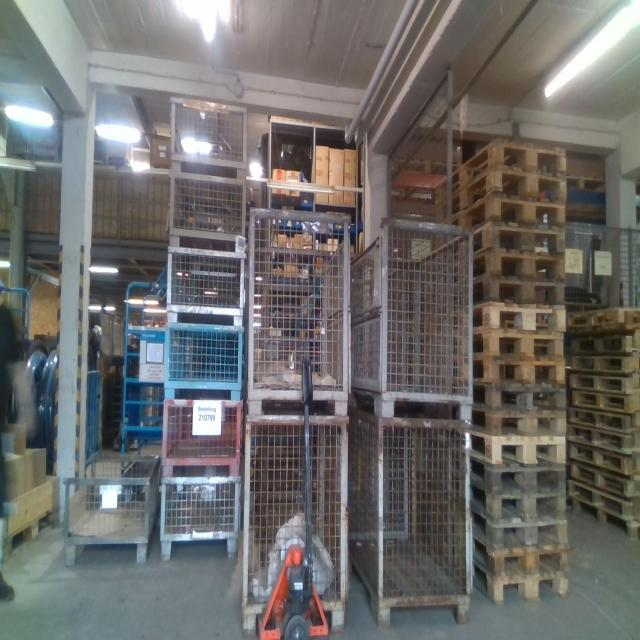pallet: (433, 135, 565, 175), (425, 177, 568, 209), (435, 202, 571, 232), (426, 231, 567, 258), (0, 504, 60, 566), (432, 258, 567, 285), (441, 286, 566, 312), (476, 549, 568, 578), (475, 441, 567, 469), (478, 522, 569, 550), (475, 473, 568, 500), (479, 362, 567, 390), (476, 413, 567, 439), (478, 336, 565, 362), (476, 310, 568, 334), (479, 390, 568, 413), (476, 501, 567, 523), (476, 581, 570, 600), (571, 477, 640, 500), (568, 333, 637, 354), (570, 499, 638, 519), (571, 457, 637, 477), (568, 311, 640, 329), (571, 435, 638, 454), (572, 522, 639, 541), (569, 377, 638, 395), (570, 415, 638, 433), (568, 357, 638, 374), (569, 399, 638, 413)
pallet_truck: (252, 358, 335, 637)
stillage: (236, 407, 356, 638), (350, 213, 479, 422), (356, 414, 475, 634), (248, 202, 354, 418), (61, 451, 159, 571), (153, 395, 245, 480), (157, 476, 241, 567), (167, 89, 250, 176), (162, 247, 247, 323), (163, 325, 244, 404), (162, 174, 247, 248)
